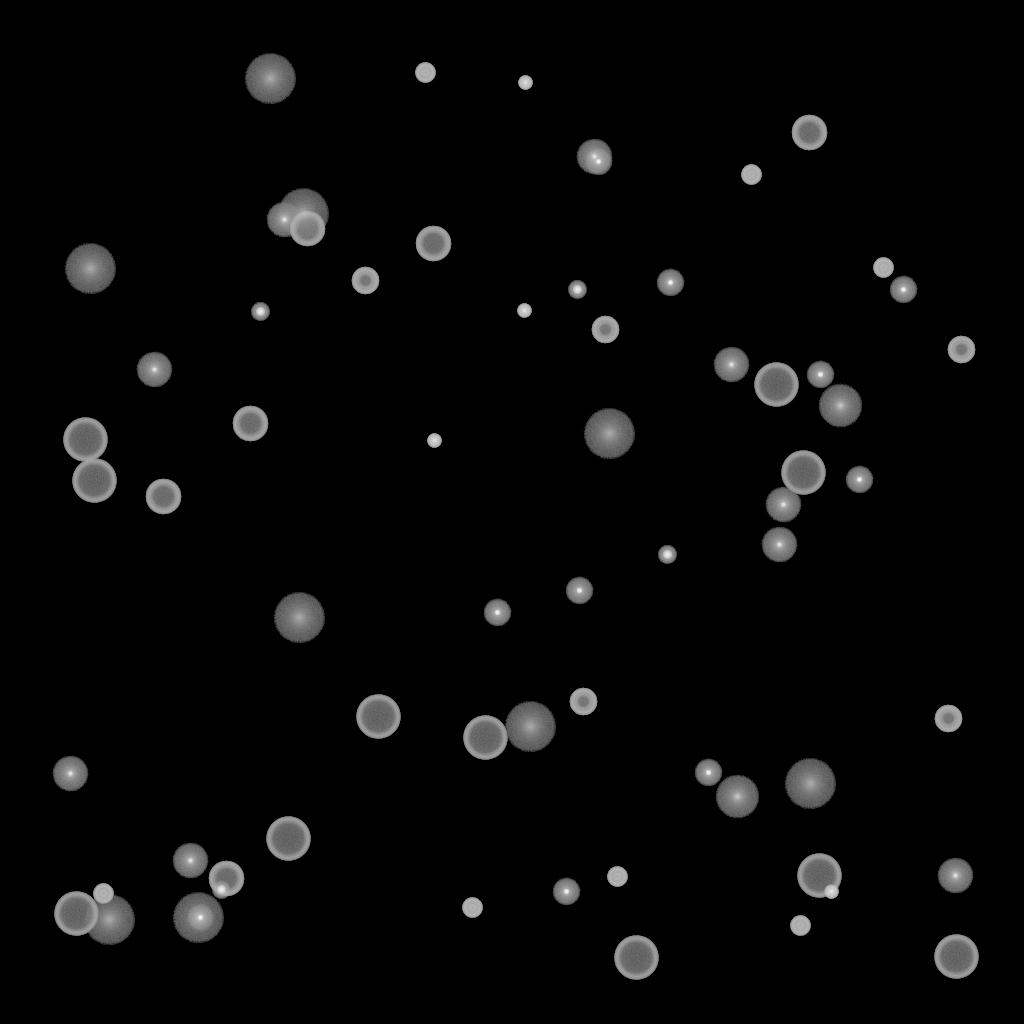depth:-10: (584, 148, 612, 176), (806, 361, 834, 389), (565, 577, 593, 605), (656, 269, 684, 297), (186, 904, 214, 932), (889, 276, 917, 304), (845, 466, 873, 494), (694, 759, 722, 787), (552, 878, 580, 906), (483, 599, 511, 627)
depth:-20: (212, 881, 230, 899), (658, 546, 676, 564), (251, 303, 269, 321), (568, 281, 586, 299)
depth:-30: (517, 304, 531, 318), (427, 434, 441, 448), (824, 885, 838, 899), (518, 76, 532, 90)
depth:-40: (741, 165, 761, 185), (93, 884, 113, 904), (462, 898, 482, 918), (607, 867, 627, 887), (873, 258, 893, 278), (790, 916, 810, 936), (415, 63, 435, 83)
depth:-50: (934, 705, 962, 733), (947, 336, 975, 364), (591, 316, 619, 344), (351, 267, 379, 295), (569, 688, 597, 716)
depth:-60: (791, 115, 827, 151), (415, 226, 451, 262), (145, 479, 181, 515), (232, 406, 268, 442), (289, 211, 325, 247), (208, 861, 244, 897)
depth:-70: (781, 451, 825, 495), (54, 892, 98, 936), (63, 418, 107, 462), (754, 363, 798, 407), (463, 716, 507, 760), (72, 459, 116, 503), (356, 695, 400, 739), (797, 854, 841, 898), (934, 935, 978, 979), (614, 936, 658, 980), (266, 817, 310, 861)
depth:0: (713, 347, 749, 383), (576, 139, 612, 175), (136, 352, 172, 388), (761, 527, 797, 563), (765, 487, 801, 523), (52, 756, 88, 792), (937, 858, 973, 894), (266, 202, 302, 238), (172, 843, 208, 879)
depth:10: (715, 775, 759, 819), (818, 384, 862, 428)
depth:20: (244, 54, 296, 104), (83, 895, 135, 945), (277, 189, 329, 239), (583, 409, 635, 459), (504, 702, 556, 752), (273, 593, 325, 643), (64, 244, 116, 294), (784, 759, 836, 809), (172, 893, 224, 943)
